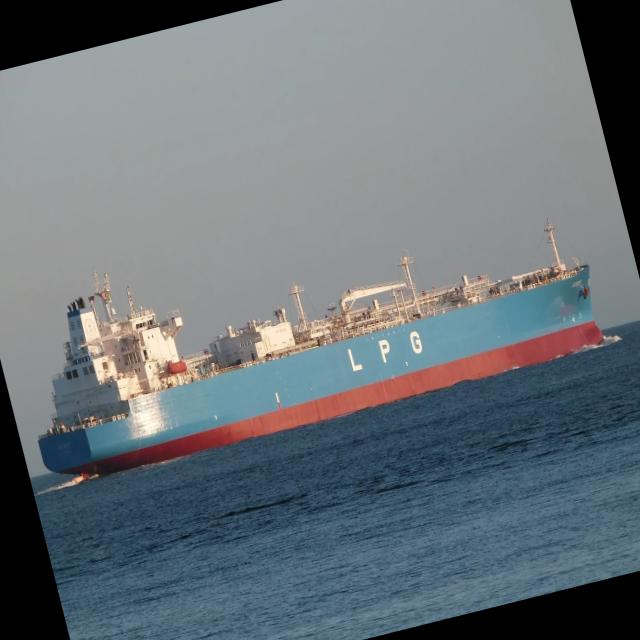Tanker: (38, 220, 602, 475)
